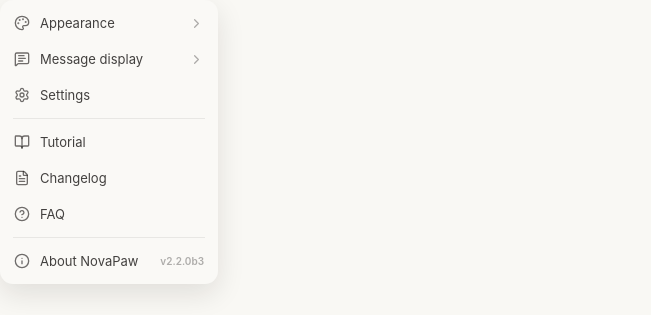
SidebarSettingsPanel › uses cascading appearance controls without dropdowns
Click the button "Appearance" at (109, 23), box [5, 5, 213, 41]
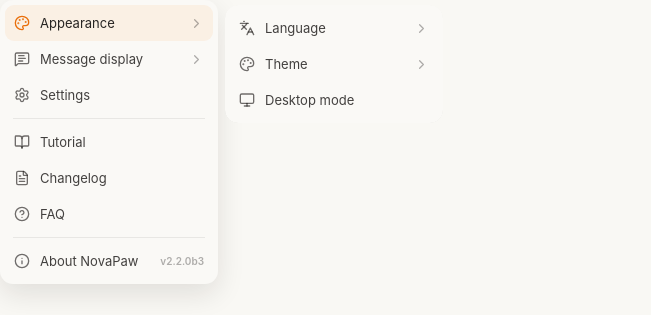
expect the button "Appearance" is expanded: met, box [5, 5, 213, 41]
expect the text "Language" is shown: met, box [265, 20, 326, 36]
expect the text "Theme" is shown: met, box [265, 56, 308, 72]
Click the button "Language" at (334, 28), box [230, 10, 438, 46]
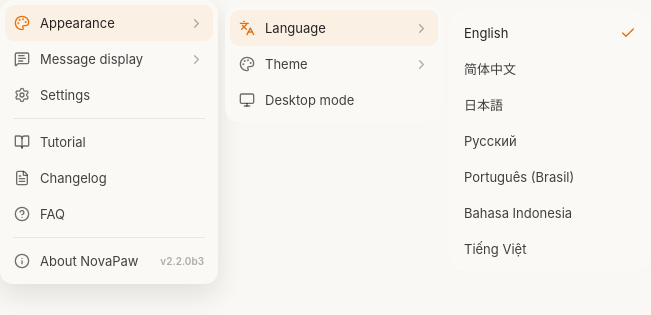
expect the text "简体中文" is shown: met, box [464, 61, 516, 77]
expect the text "Português (Brasil)" is shown: met, box [464, 169, 574, 185]
